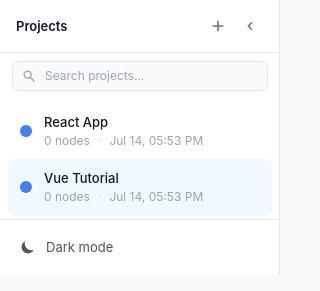
Test: ProjectSidebar › filters projects by search query
Type "React" into the field with placeholder "Search projects...".
click(140, 76); type("React")  # box [12,61,268,91]
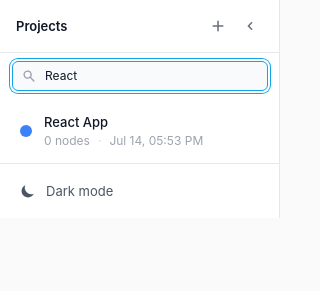
expect the text "React App" is shown: met, box [44,114,108,130]
expect the text "Vue Tutorial" is gone: met
